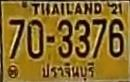0: (26, 19, 43, 58)
3: (74, 19, 89, 57), (57, 19, 72, 57)
6: (108, 18, 123, 56)
7: (8, 18, 24, 58), (92, 19, 106, 58)
PRI: (38, 61, 98, 81)
